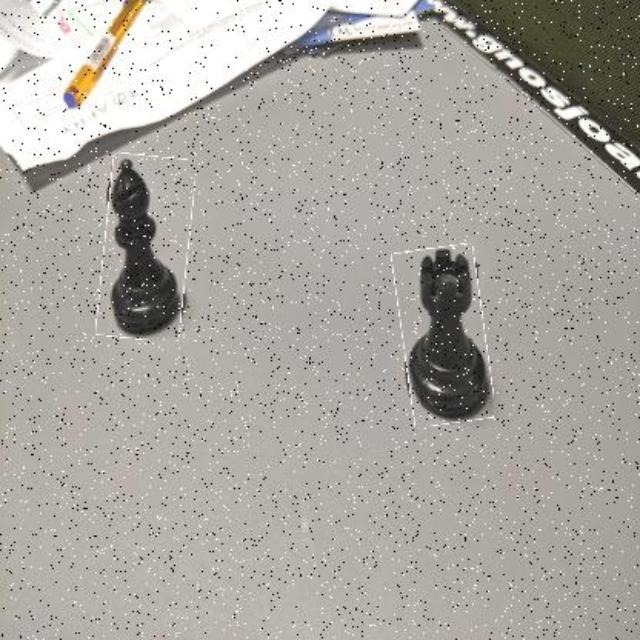black-bishop: (100, 154, 192, 340)
black-rook: (397, 245, 490, 425)
